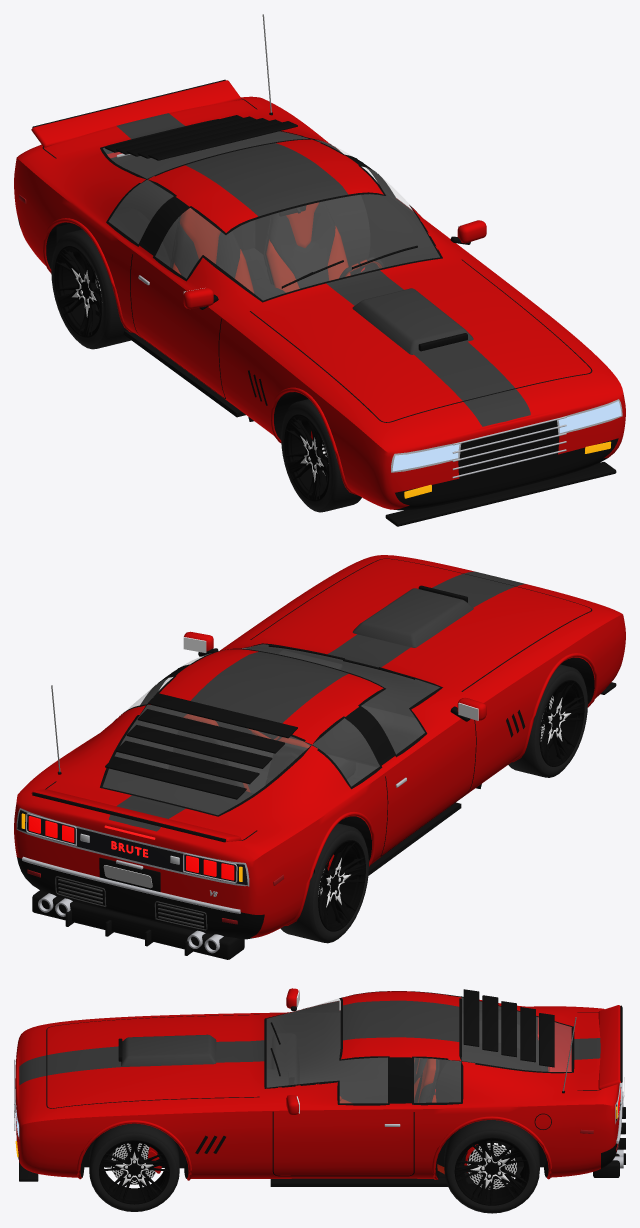
Rendered from brute.glb.
3 renders of one model, top to bottom at view 1: azimuth 30°, elevation 25°; view 2: azimuth 150°, elevation 25°; view 3: azimuth 270°, elevation 25°, orthographic. The views are drawn at different scales.
Visible parts, largest first — view 1: BodyShell, InteriorLining, InteriorBulkhead, BodyScoop, BodyDucktail, Wheel_RR_Rim, InteriorSeatLSeatsColor2, BodyWindowTrim, Wheel_RR_Tire, Wheel_FR_Rim, BodySplitter, Wheel_FR_Tire (+13 smaller); view 2: BodyShell, BodyScoop, BodyDiffuser, InteriorDashTop, Wheel_RR_Rim, Wheel_FR_Rim, Wheel_RR_Tire, InteriorFirewall, InteriorBulkhead, BodyWindowTrim, Wheel_FR_Tire, BodyLouver0 (+17 smaller); view 3: BodyShell, InteriorLining, Wheel_RL_Tire, Wheel_RL_Rim, Wheel_FL_Tire, Wheel_FL_Rim, BodyScoop, BodyWindowTrim, BodyDucktail, InteriorFloorPan, InteriorDashTop, BodyLouver0 (+13 smaller).
Part boxes in pixels (left/top/right/bottom): BodyShell: left=14, top=96, right=625, bottom=510; InteriorLining: left=72, top=133, right=439, bottom=307; InteriorBulkhead: left=56, top=131, right=305, bottom=263; BodyScoop: left=352, top=288, right=473, bottom=354; BodyDucktail: left=31, top=80, right=241, bottom=147; Wheel_RR_Rim: left=54, top=246, right=101, bottom=337; InteriorSeatLSeatsColor2: left=269, top=201, right=335, bottom=288; BodyWindowTrim: left=100, top=119, right=442, bottom=302; Wheel_RR_Tire: left=51, top=229, right=131, bottom=349; Wheel_FR_Rim: left=284, top=414, right=329, bottom=501; BodySplitter: left=385, top=462, right=616, bottom=526; Wheel_FR_Tire: left=281, top=399, right=361, bottom=512; BodyShell: left=14, top=555, right=625, bottom=939; BodyScoop: left=352, top=588, right=473, bottom=647; BodyDiffuser: left=32, top=890, right=244, bottom=959; InteriorDashTop: left=215, top=705, right=424, bottom=767; Wheel_RR_Rim: left=318, top=840, right=365, bottom=931; Wheel_FR_Rim: left=539, top=680, right=584, bottom=766; Wheel_RR_Tire: left=280, top=823, right=368, bottom=943; InteriorFirewall: left=245, top=644, right=481, bottom=788; InteriorBulkhead: left=102, top=768, right=314, bottom=873; BodyWindowTrim: left=100, top=643, right=442, bottom=816; Wheel_FR_Tire: left=508, top=664, right=587, bottom=777; BodyLouver0: left=148, top=693, right=297, bottom=738; BodyShell: left=15, top=991, right=619, bottom=1178; InteriorLining: left=266, top=999, right=537, bottom=1177; Wheel_RL_Tire: left=444, top=1120, right=539, bottom=1213; Wheel_RL_Rim: left=454, top=1137, right=529, bottom=1205; Wheel_FL_Tire: left=89, top=1123, right=179, bottom=1211; Wheel_FL_Rim: left=99, top=1140, right=169, bottom=1204; BodyScoop: left=121, top=1034, right=216, bottom=1066; BodyWindowTrim: left=264, top=991, right=574, bottom=1105; BodyDucktail: left=598, top=1005, right=620, bottom=1089; InteriorFloorPan: left=270, top=1177, right=513, bottom=1186; InteriorDashTop: left=270, top=1033, right=299, bottom=1084; BodyLouver0: left=463, top=989, right=479, bottom=1046.
Size of the model in its own units: 2.27 by 1.7 by 5.03.
Materials: 33 (2 with a texture image).
